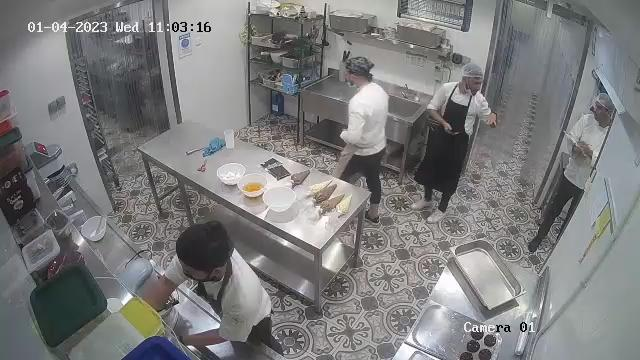apron: (422, 84, 481, 188)
no_apron: (561, 114, 612, 189)
